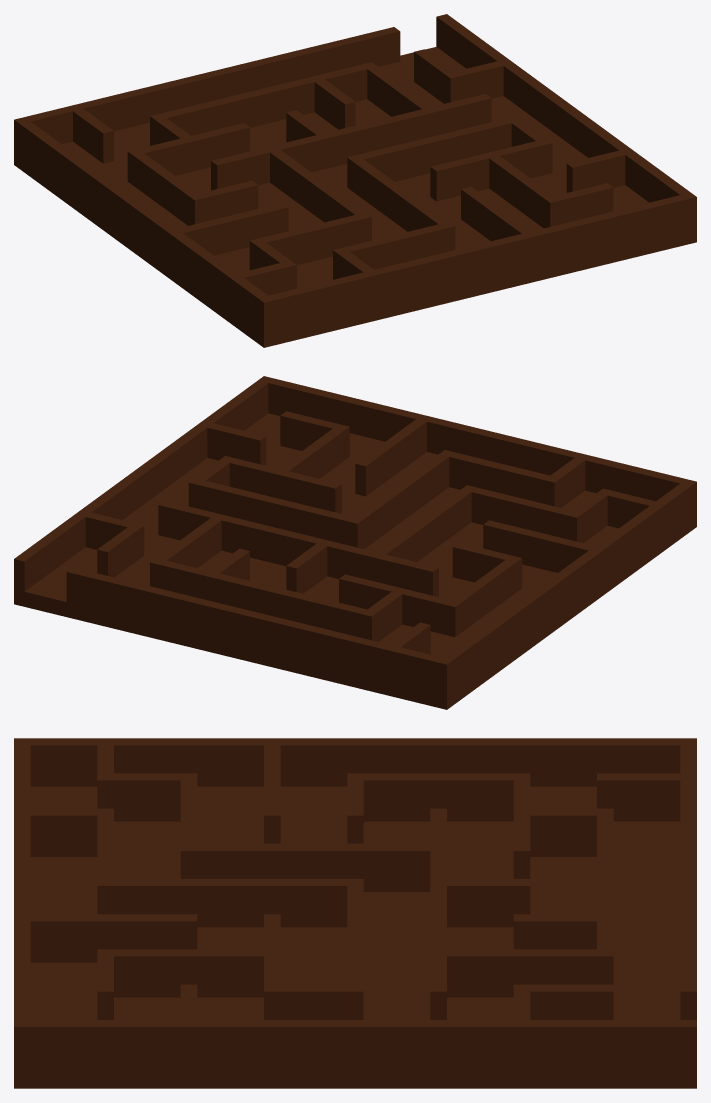
File: Labyrinth7.obj
The picture shows the model from 3 angles, top to bottom: view 1: azimuth 30°, elevation 25°; view 2: azimuth 150°, elevation 25°; view 3: azimuth 270°, elevation 25°; orthographic projection. The views are drawn at different scales.
Visible parts, largest first — view 1: Labyrinth; view 2: Labyrinth; view 3: Labyrinth.
Part boxes in pixels (x1,y1,x2,y2): Labyrinth: (14,14,696,347); Labyrinth: (14,376,696,709); Labyrinth: (14,738,696,1088).
Size of the model in its own units: 30 by 3 by 30.
